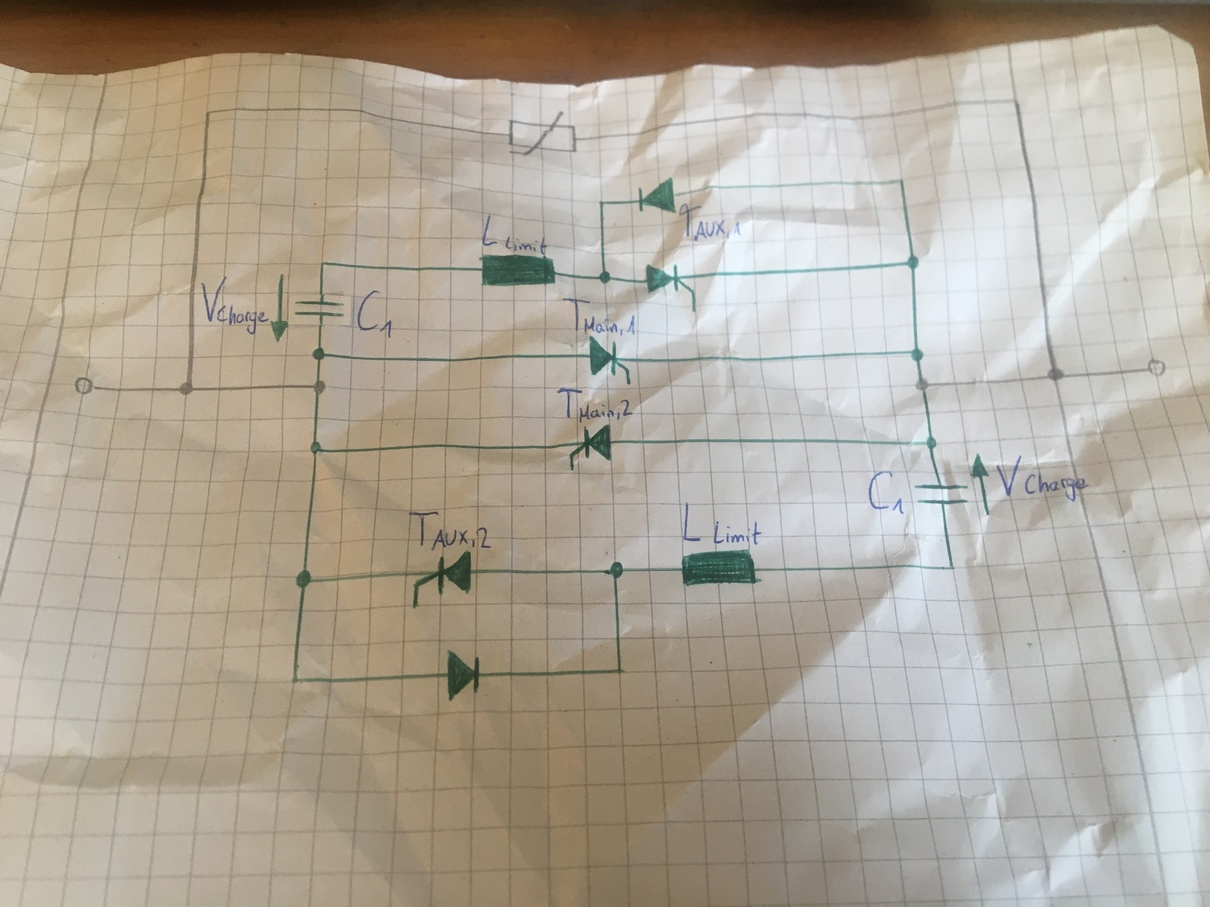capacitor.unpolarized: (293, 293, 347, 328), (912, 480, 971, 510)
diode: (445, 647, 483, 702), (637, 176, 678, 215)
inductor: (679, 547, 762, 588), (478, 253, 558, 289)
junction: (294, 568, 314, 590), (607, 560, 626, 580), (177, 380, 195, 398), (1046, 366, 1064, 383), (311, 378, 328, 396), (909, 347, 926, 363), (311, 345, 327, 362), (914, 376, 930, 392), (597, 269, 613, 285), (905, 255, 921, 270), (925, 435, 938, 450), (309, 440, 322, 455), (1008, 94, 1022, 107), (289, 674, 302, 686), (614, 665, 627, 677), (945, 562, 959, 573), (895, 176, 908, 186), (317, 258, 328, 268), (203, 108, 213, 117), (597, 198, 607, 207)
terminal: (1145, 355, 1170, 379), (72, 375, 99, 397)
text: (994, 454, 1091, 503), (199, 274, 271, 336), (680, 500, 762, 548), (405, 508, 493, 551), (560, 295, 638, 338), (554, 386, 636, 424), (479, 212, 548, 256), (677, 202, 743, 243), (355, 288, 396, 341), (866, 468, 907, 516)
thyristor: (411, 549, 475, 604), (588, 334, 632, 386), (644, 262, 697, 305), (568, 423, 614, 471)
varistor: (506, 109, 580, 159)
